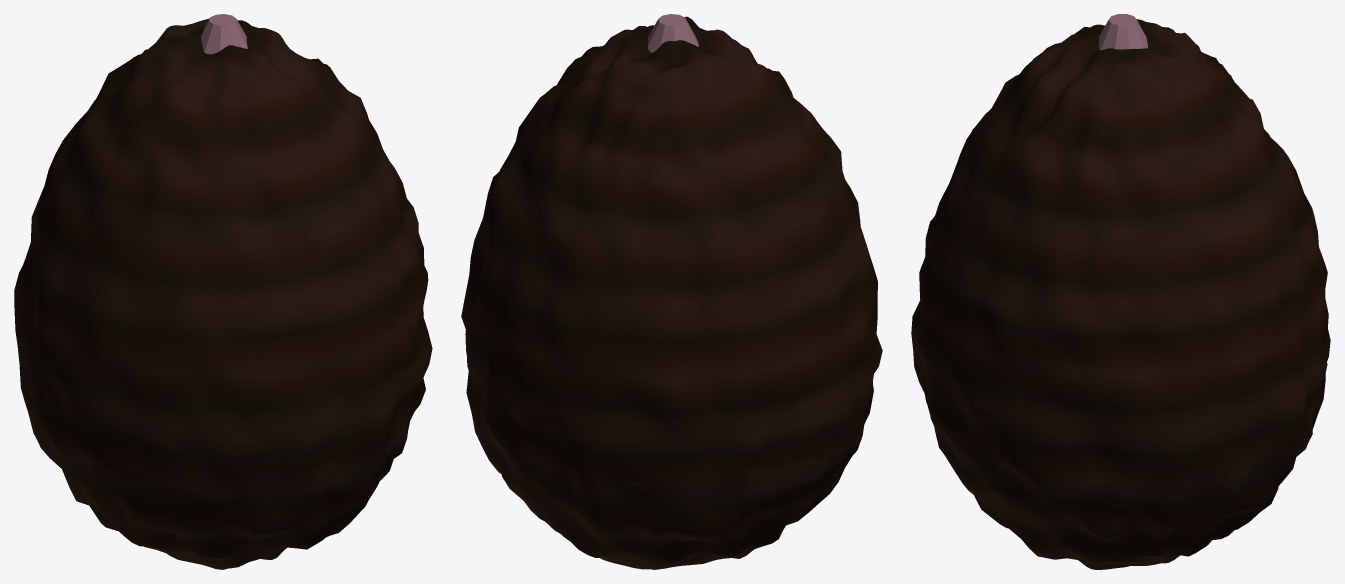
File: songe.glb
3 renders of one model, left to right at view 1: azimuth 30°, elevation 25°; view 2: azimuth 150°, elevation 25°; view 3: azimuth 270°, elevation 25°, orthographic.
Visible parts, largest first — view 1: entier_peau, moitie_B_peau, moitie_A_peau, entier_extra0; view 2: entier_peau, moitie_A_peau, moitie_B_peau, entier_extra0; view 3: entier_peau, moitie_A_peau, moitie_B_peau, entier_extra0.
Boxes of the visible parts, x1=… form: entier_peau: x1=14, y1=18, x2=432, y2=569; moitie_B_peau: x1=44, y1=33, x2=431, y2=569; moitie_A_peau: x1=14, y1=20, x2=280, y2=527; entier_extra0: x1=201, y1=14, x2=247, y2=54; entier_peau: x1=461, y1=16, x2=882, y2=569; moitie_A_peau: x1=466, y1=32, x2=848, y2=568; moitie_B_peau: x1=578, y1=16, x2=881, y2=521; entier_extra0: x1=647, y1=14, x2=699, y2=52; entier_peau: x1=911, y1=19, x2=1330, y2=569; moitie_A_peau: x1=1122, y1=20, x2=1330, y2=565; moitie_B_peau: x1=912, y1=27, x2=1121, y2=569; entier_extra0: x1=1098, y1=14, x2=1147, y2=50.
Bounding box in the file's own units: 1.5 × 2.09 × 1.49.
